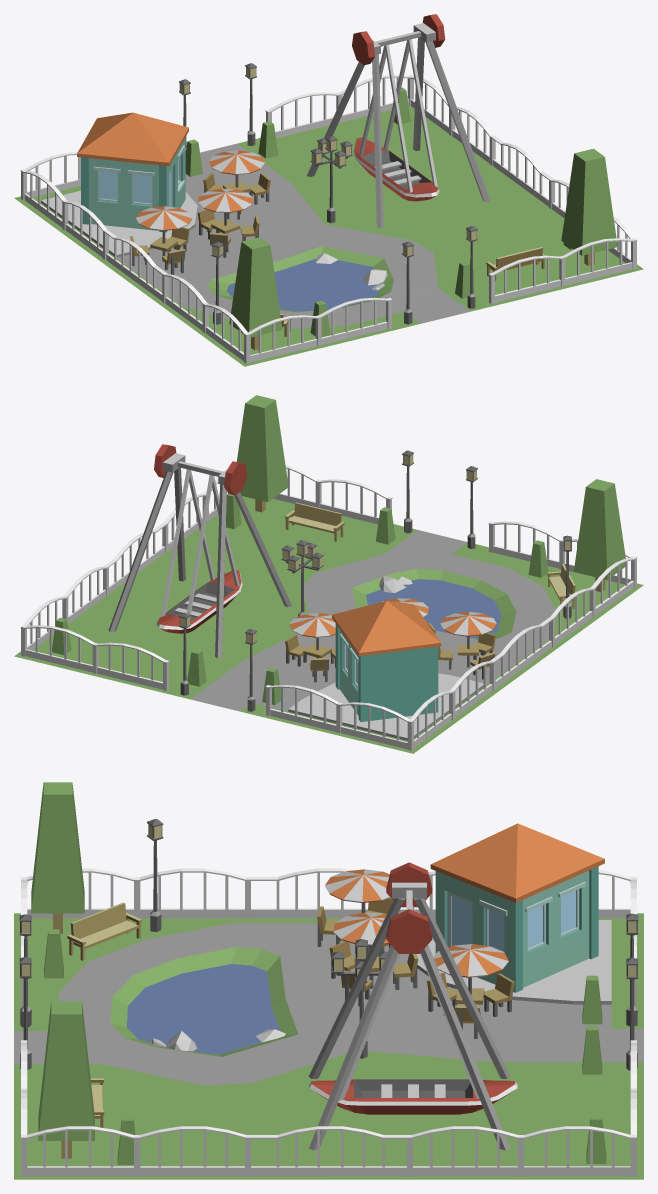
The model's file is park_005.fbx.
3 renders of one model, top to bottom at view 1: azimuth 30°, elevation 25°; view 2: azimuth 150°, elevation 25°; view 3: azimuth 270°, elevation 25°, orthographic. The views are drawn at different scales.
Parts seen in each view (by area): view 1: park_005; view 2: park_005; view 3: park_005.
Part boxes in pixels (x1,y1,x2,y2): park_005: [14, 14, 643, 366]; park_005: [14, 395, 643, 753]; park_005: [14, 782, 643, 1179].
Bounding box in the file's own units: 1600 × 734 × 1600.
